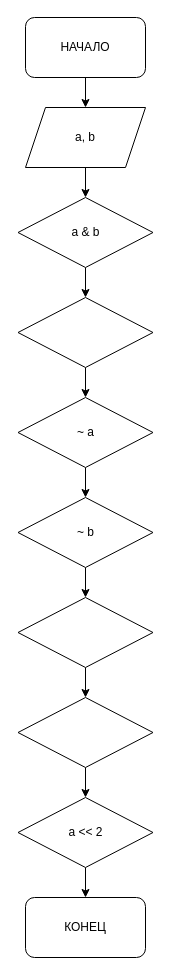
The diagram is 170 pixels wide and 975 high, and some of its shapes have lost their labels. Each missing label, with the centre of its shape:
"a >> 2" goes at point 85,732.
"a ^ b" goes at point 85,632.
"a | b" goes at point 85,332.
